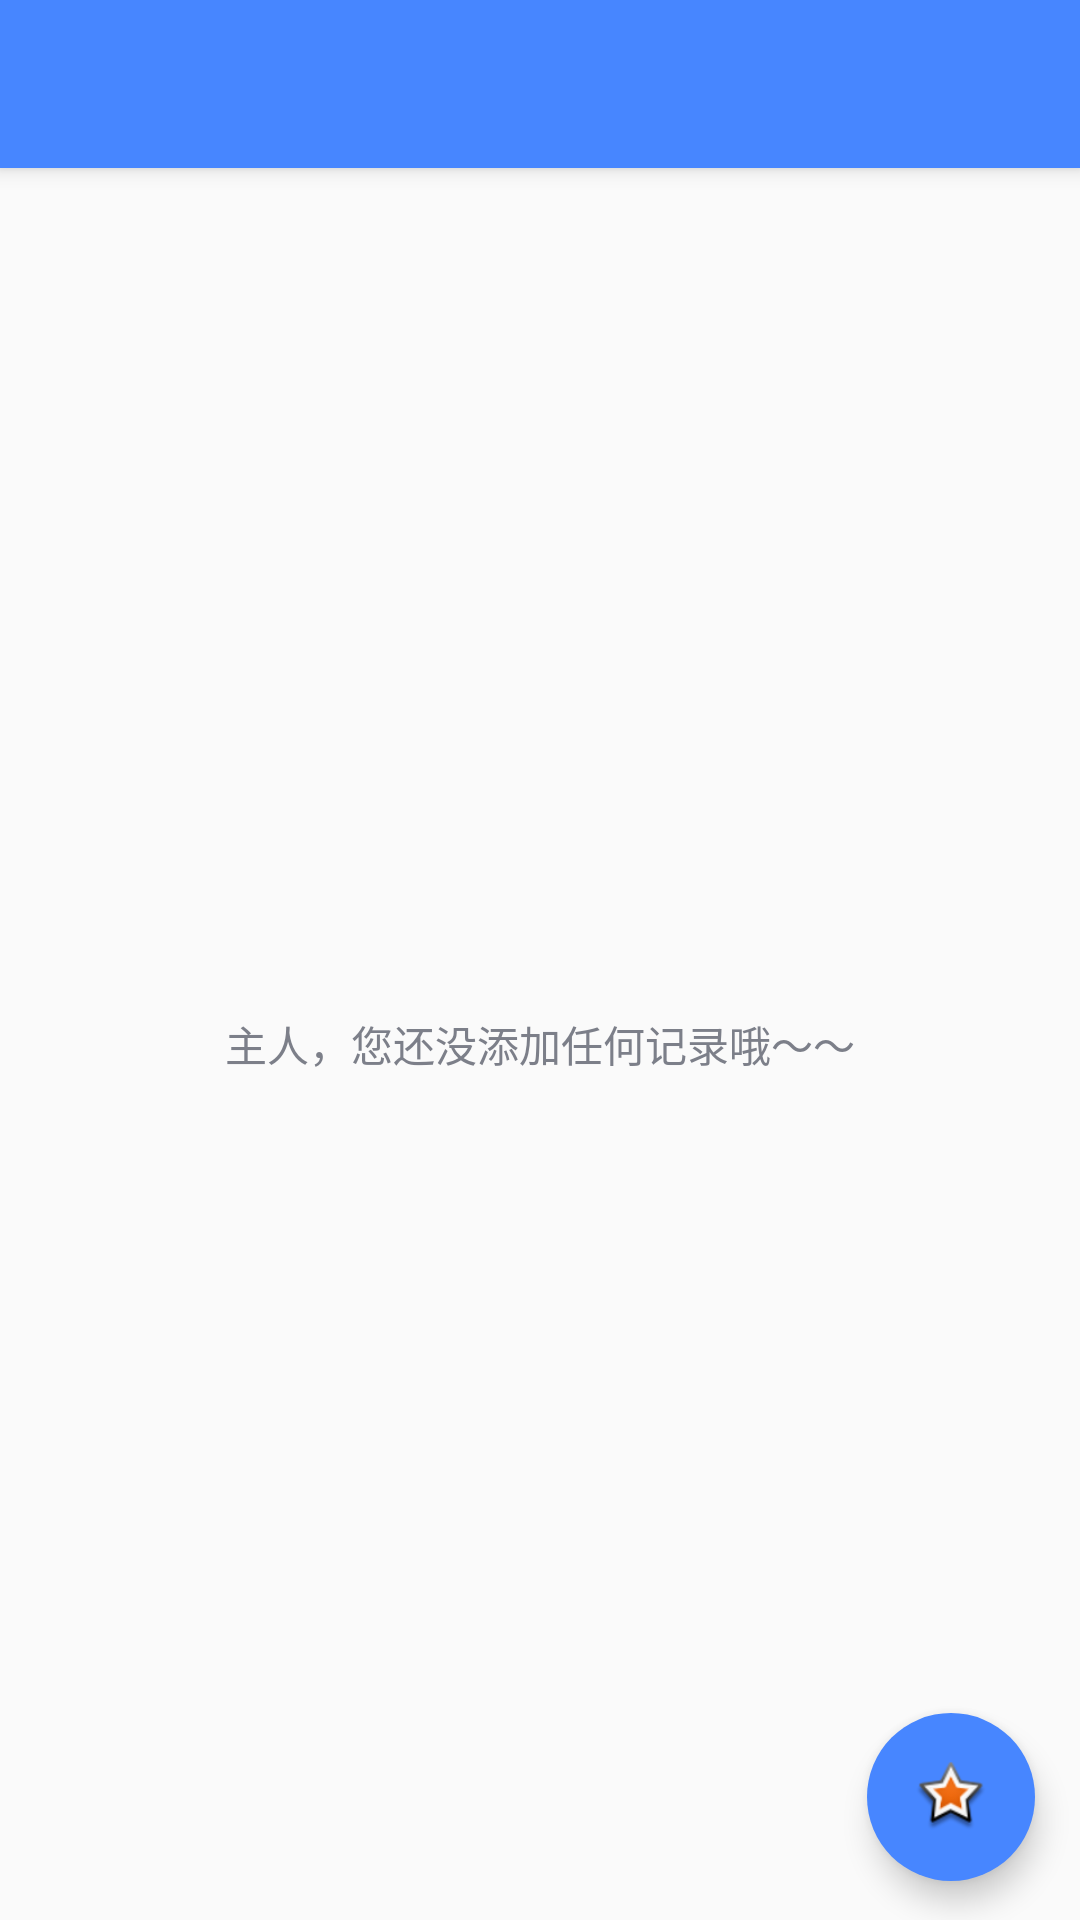

Screen size 1080 × 1920. Icon name, then its center in pixels as (x,y):
star on: (951,1797)
